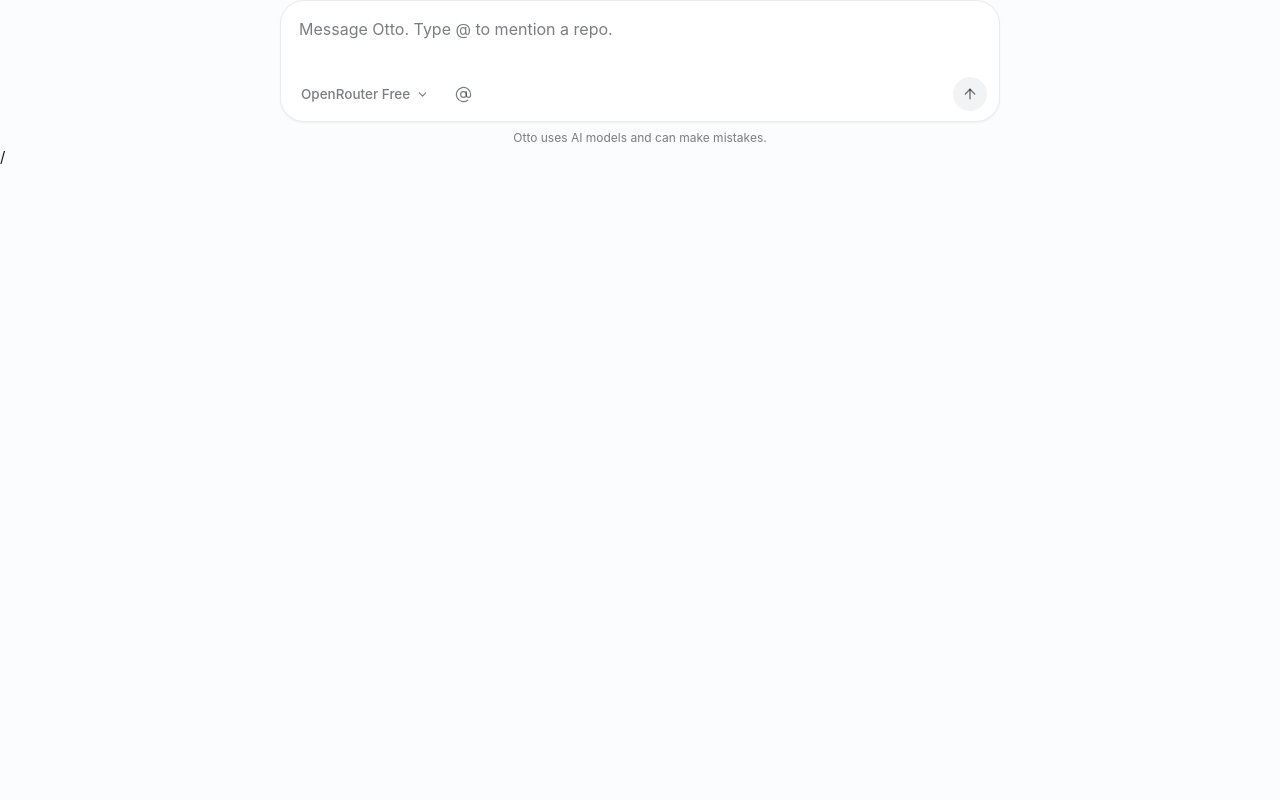
sends the message, repo and model, then opens the chat
Check: the button "OpenRouter Free" is shown, box [291,78,439,110]
Check: the text "Otto uses AI models and can make mistakes." is shown, box [513,130,767,145]
In the text box labelled "Message Otto": (643, 42) [299,15,987,69], type "@otto"
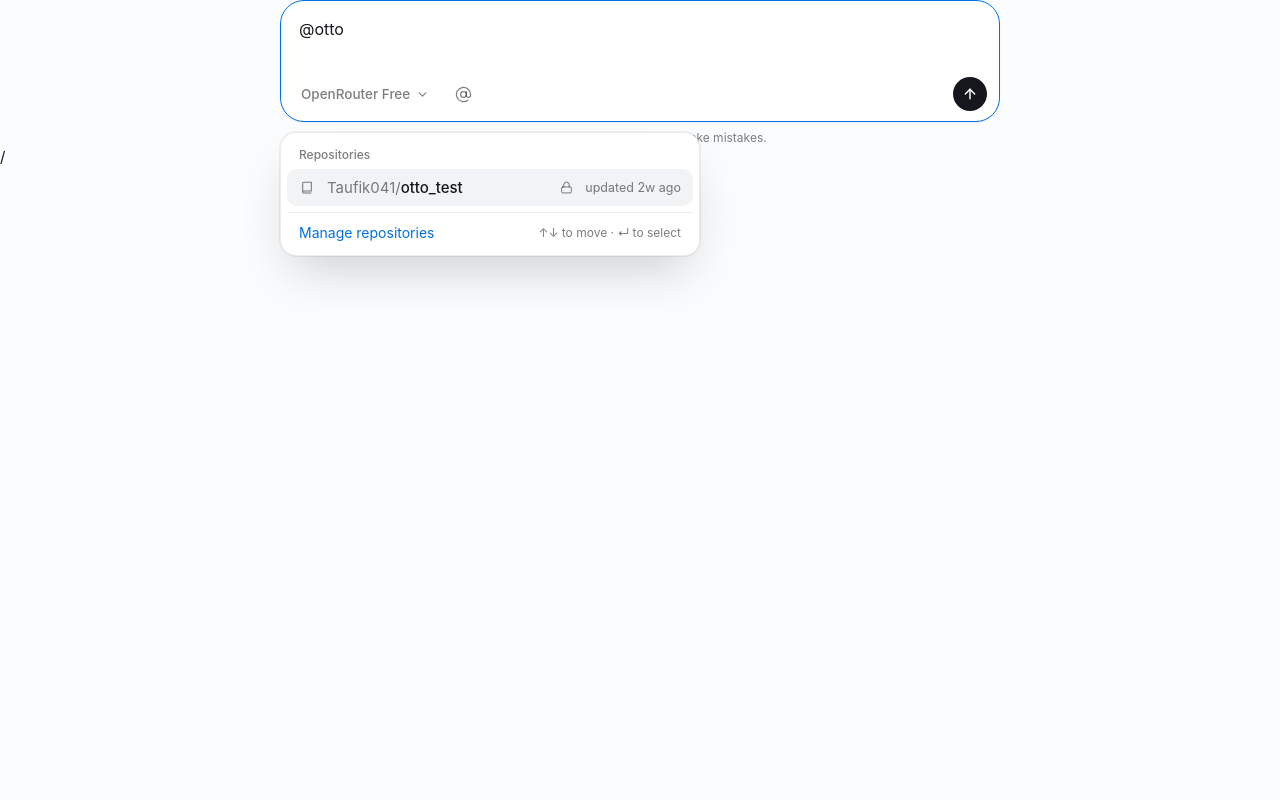
Press Enter
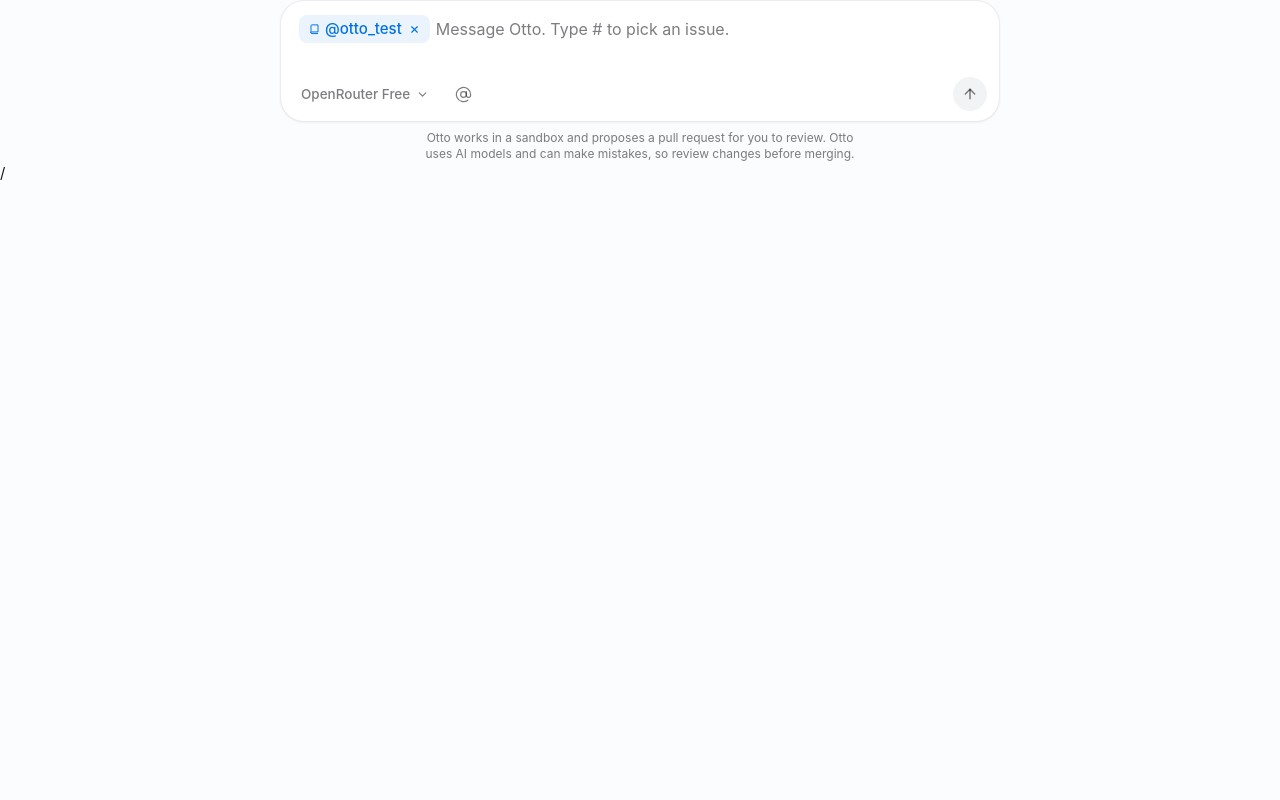
Check: the text "Otto works in a sandbox and proposes a pull request for you to review. Otto uses AI models and can make mistakes, so rev" shows "Otto works in a sandbox and proposes a pull request for you to review. Otto uses AI models and can make mistakes, so review changes before merging.", box [426,130,855,161]
In the text box labelled "Message Otto": (711, 42) [436,15,987,69], type "fix the failing tests"
Then press Enter
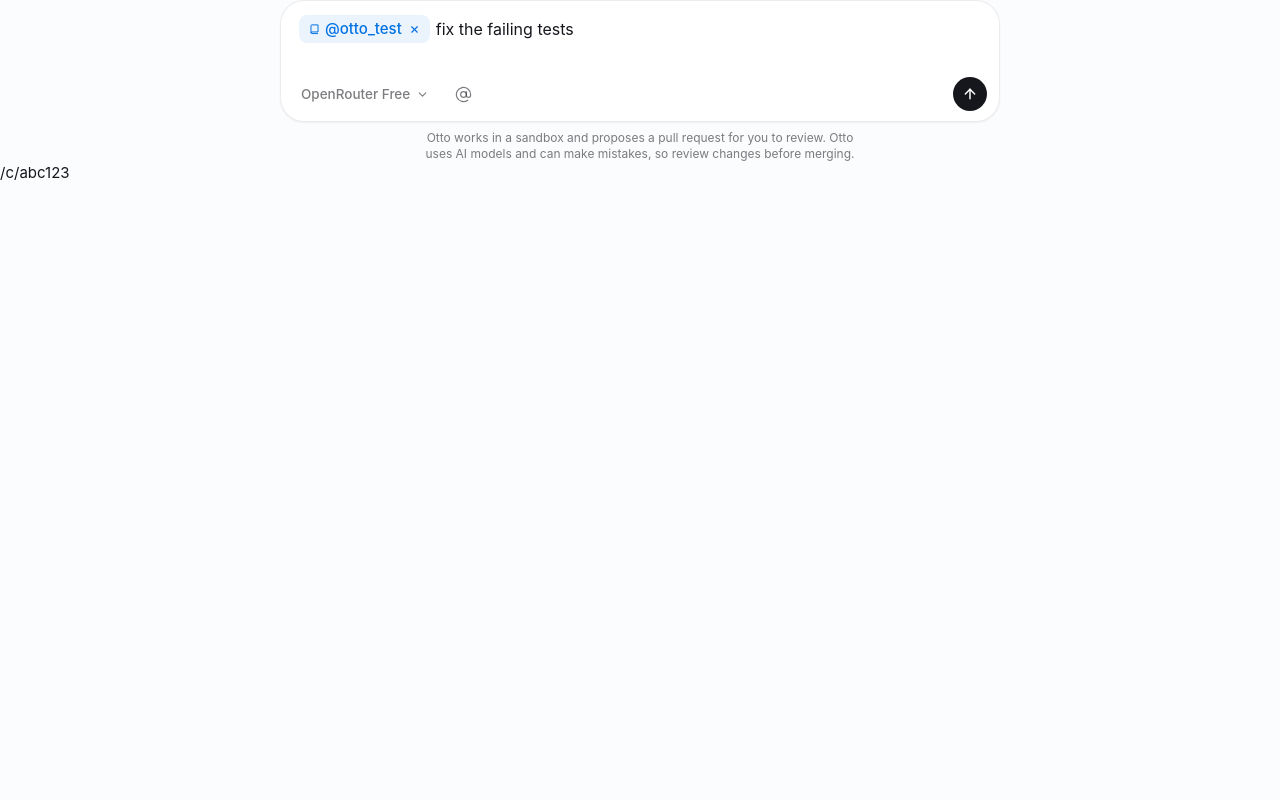
Check: the text with test id "where" reads "/c/abc123", box [0,163,70,182]
